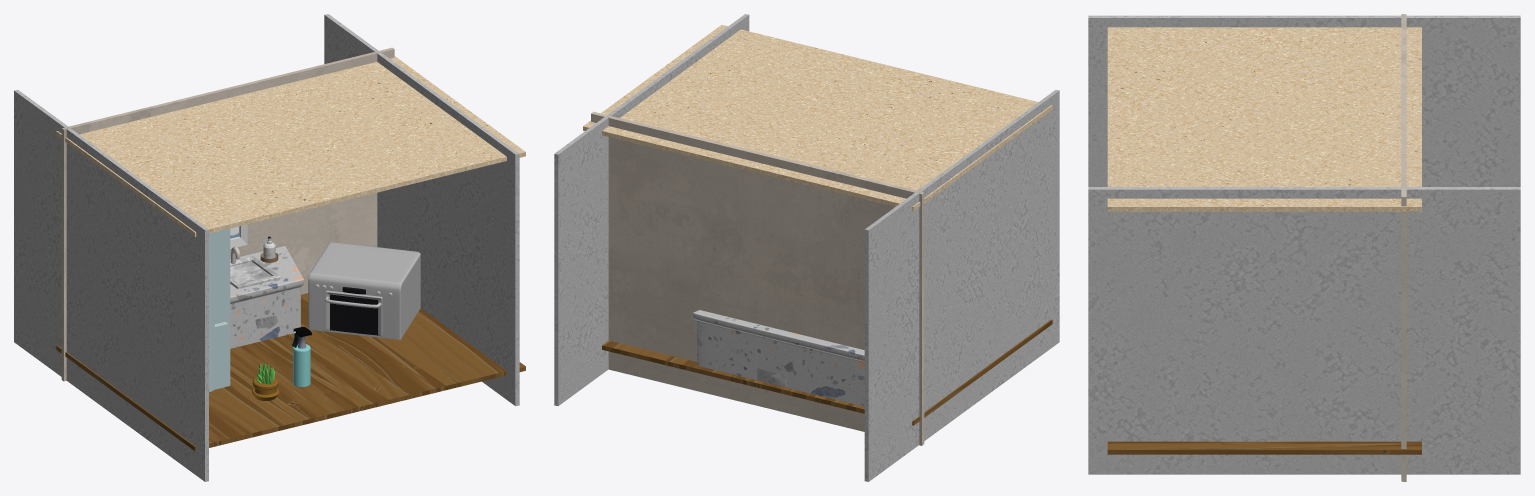
File: blueprint.FBX
3 renders of one model, left to right at view 1: azimuth 30°, elevation 25°; view 2: azimuth 150°, elevation 25°; view 3: azimuth 270°, elevation 25°, orthographic. The views are drawn at different scales.
Visible parts, largest first — view 1: Box024, Box025, Object001, Box004, Box006, Box020, desk, Object002, Object008, Cylinder001; view 2: Box006, Box024, Box025, Object001, desk, Box004; view 3: Object001, Box025, Box024, Box004, Box006.
Part boxes in pixels (x1,y1,x2,y2): Box024: [14, 90, 208, 481]; Box025: [56, 56, 525, 236]; Object001: [324, 14, 519, 406]; Box004: [56, 293, 525, 451]; Box006: [61, 47, 394, 381]; Box020: [308, 242, 420, 339]; desk: [226, 246, 303, 348]; Object002: [209, 228, 230, 392]; Object008: [292, 327, 311, 387]; Cylinder001: [251, 363, 279, 400]; Box006: [591, 111, 924, 445]; Box024: [864, 90, 1059, 481]; Box025: [583, 25, 1052, 211]; Object001: [554, 14, 749, 405]; desk: [693, 310, 864, 406]; Box004: [602, 319, 1052, 425]; Object001: [1088, 187, 1520, 474]; Box025: [1107, 27, 1421, 211]; Box024: [1088, 15, 1520, 186]; Box004: [1107, 441, 1421, 454]; Box006: [1401, 14, 1406, 481].
Bounding box in the file's own units: 3117 × 2257 × 3103.
